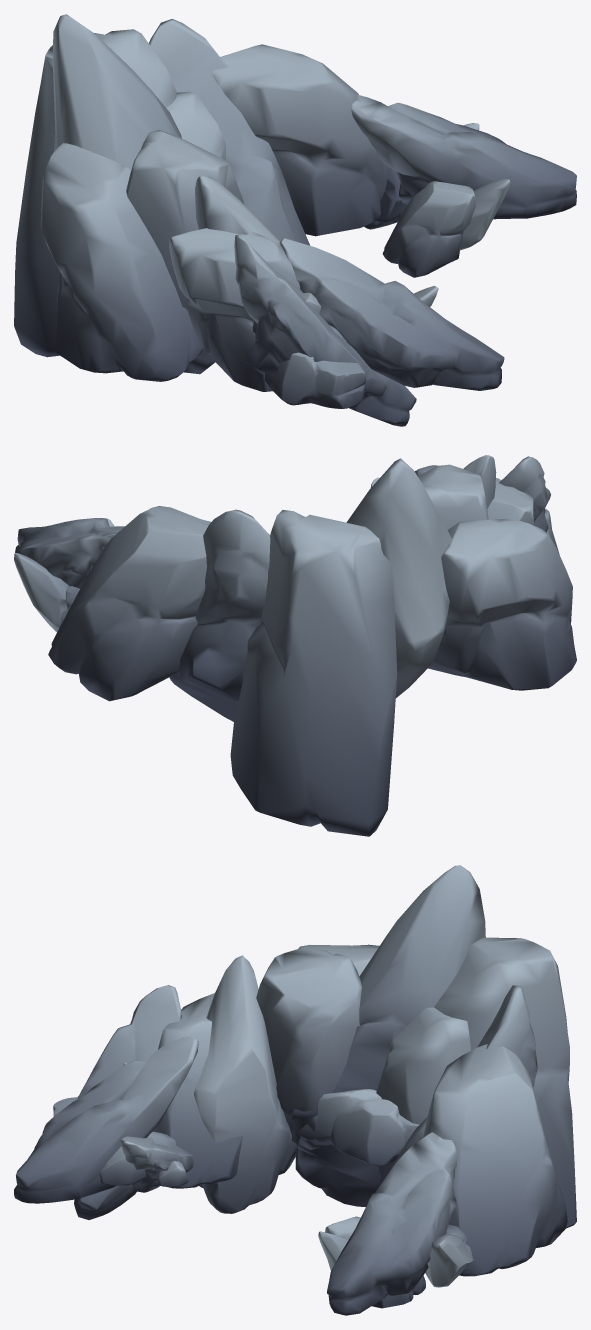
Rendered from CavesDire.fbx.
3 views of the same model, one above another, from view 1: azimuth 30°, elevation 25°; view 2: azimuth 150°, elevation 25°; view 3: azimuth 270°, elevation 25° (orthographic). The views are drawn at different scales.
Parts seen in each view (by area): view 1: Cave01; view 2: Cave01; view 3: Cave01.
Part boxes in pixels (x1,y1,x2,y2): Cave01: [14, 14, 576, 426]; Cave01: [14, 455, 576, 836]; Cave01: [14, 865, 576, 1315].
Bounding box in the file's own units: 1347 × 879 × 1288.
